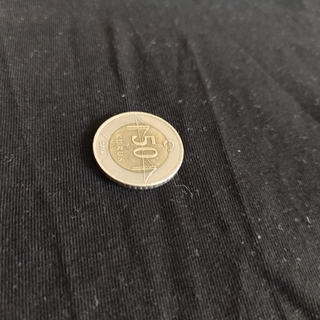50KURUS: (91, 109, 184, 190)
